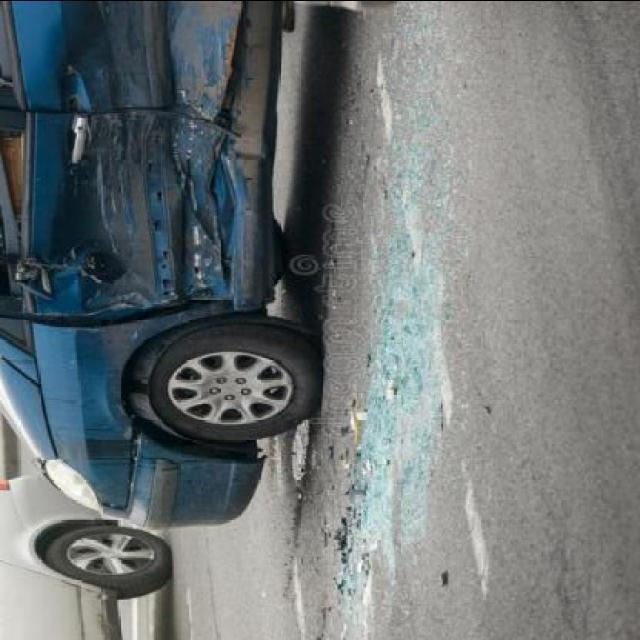doorouter-dent: (0, 115, 286, 331), (2, 1, 286, 148)
